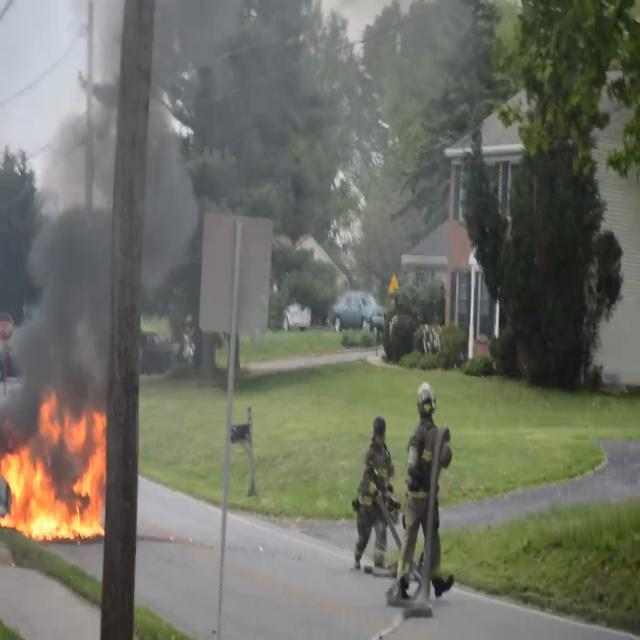Fire: (0, 398, 108, 544)
Smoke: (0, 34, 123, 426)
